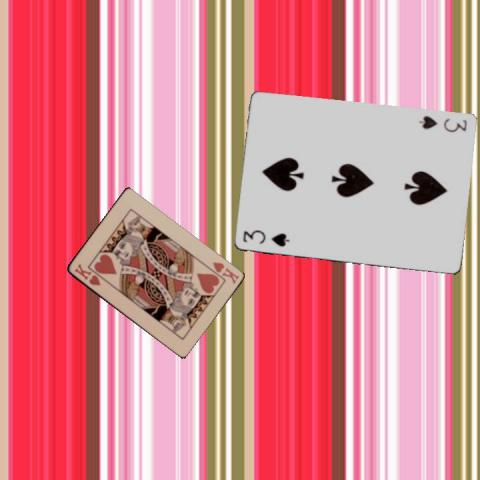3s: (240, 227, 291, 248), (416, 113, 469, 133)
Kh: (209, 259, 240, 286), (71, 261, 102, 287)
